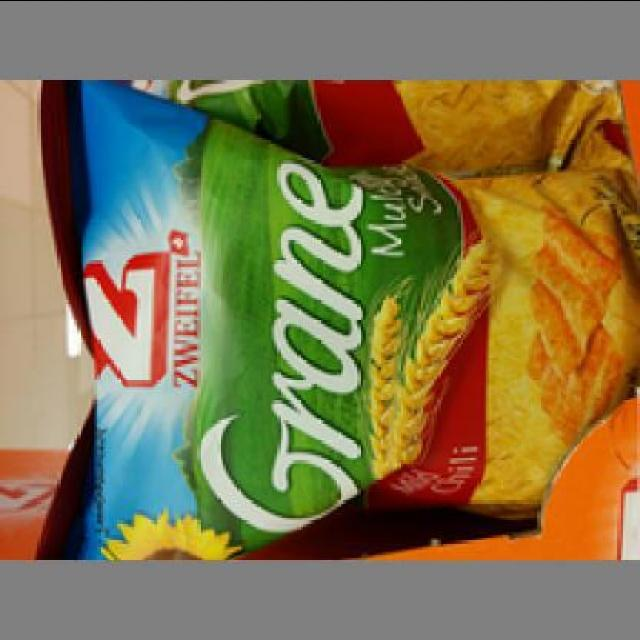Chips: (86, 86, 624, 563)
